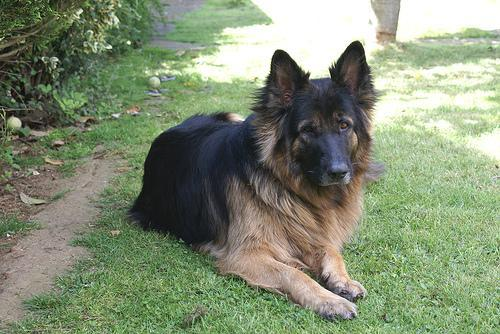German_shepherd: (126, 40, 380, 321)
